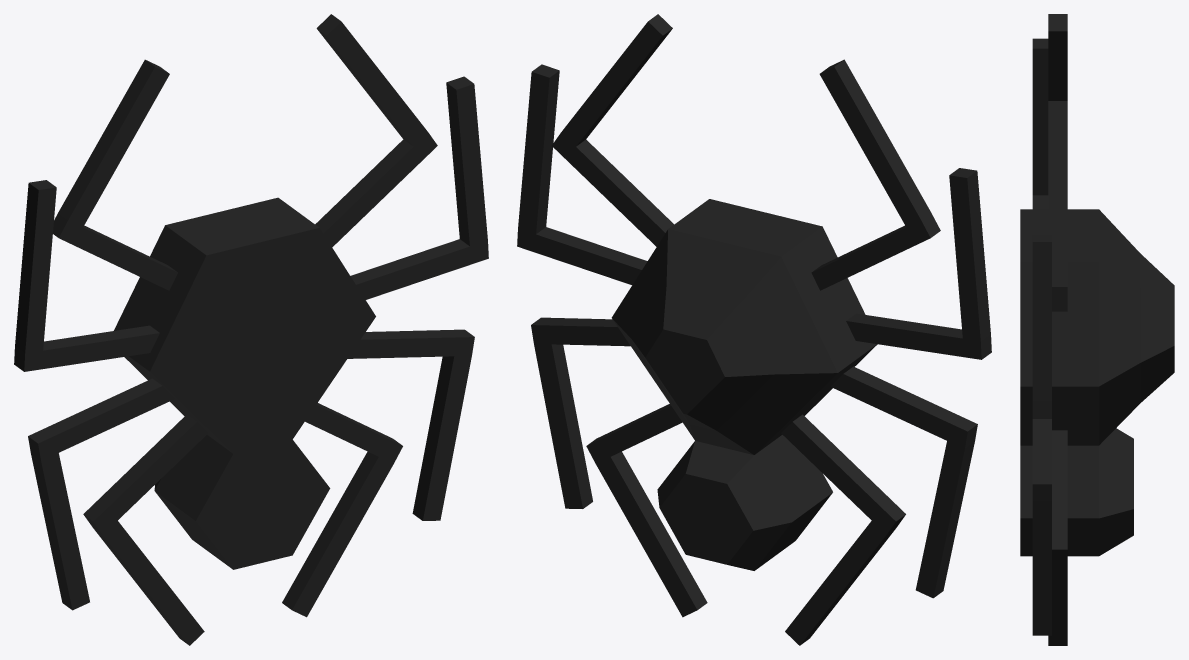
Rendered from TwilightGalDoodads.fbx.
3 renders of one model, left to right at view 1: azimuth 30°, elevation 25°; view 2: azimuth 150°, elevation 25°; view 3: azimuth 270°, elevation 25°, orthographic. The views are drawn at different scales.
Visible parts, largest first — view 1: Spider; view 2: Spider; view 3: Spider.
Part boxes in pixels (x1,y1,x2,y2): Spider: (14,14,488,645); Spider: (517,14,991,645); Spider: (1020,14,1174,645).
Size of the model in its own units: 128 by 155 by 38.6.
